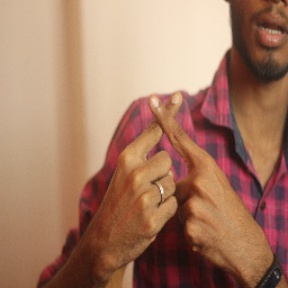X: (117, 85, 214, 182)
